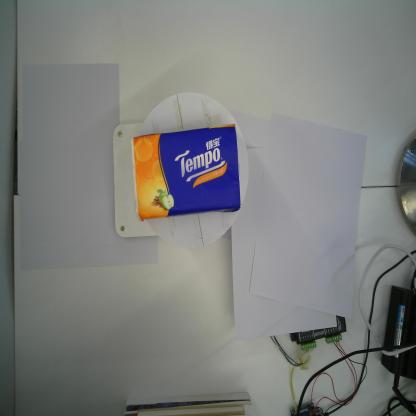Tissue: (131, 124, 242, 223)
